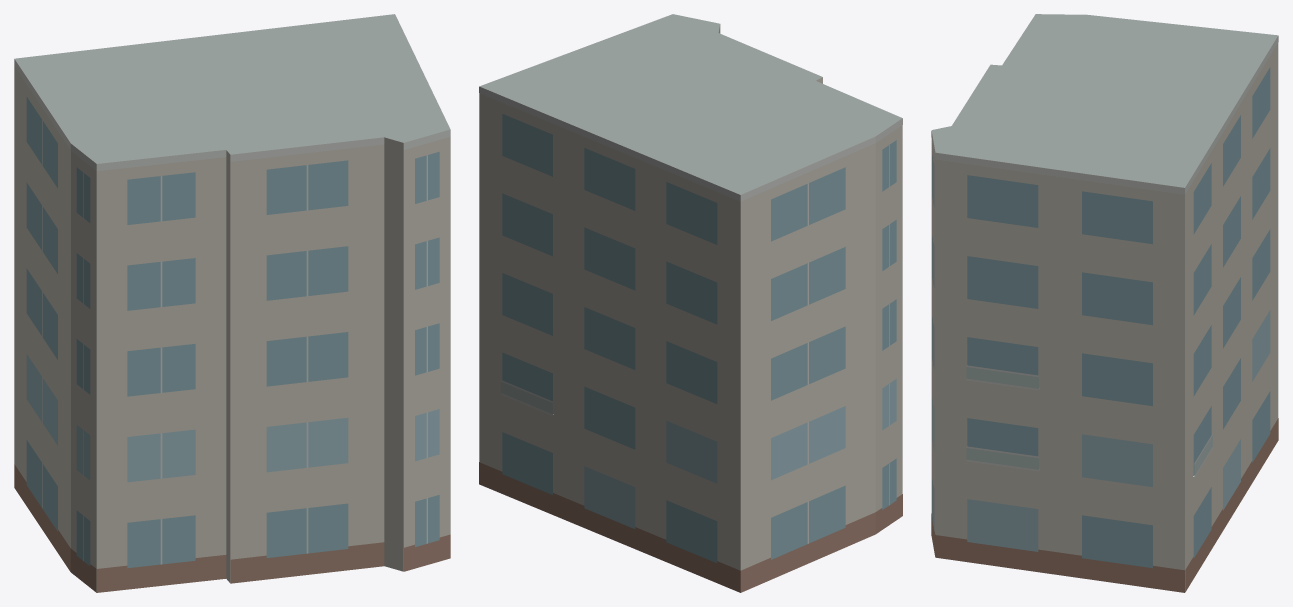
The model's file is survey-upis-32987930.glb.
3 views of the same model, side by side, from view 1: azimuth 30°, elevation 25°; view 2: azimuth 150°, elevation 25°; view 3: azimuth 270°, elevation 25° (orthographic). The views are drawn at different scales.
Visible parts, largest first — view 1: survey-upis-32987930.tmp; view 2: survey-upis-32987930.tmp; view 3: survey-upis-32987930.tmp.
Part boxes in pixels (<box>): survey-upis-32987930.tmp: <box>14,14,450,592</box>; survey-upis-32987930.tmp: <box>479,14,902,592</box>; survey-upis-32987930.tmp: <box>931,14,1278,592</box>.
Size of the model in its own units: 13.36 by 14.5 by 11.27.
